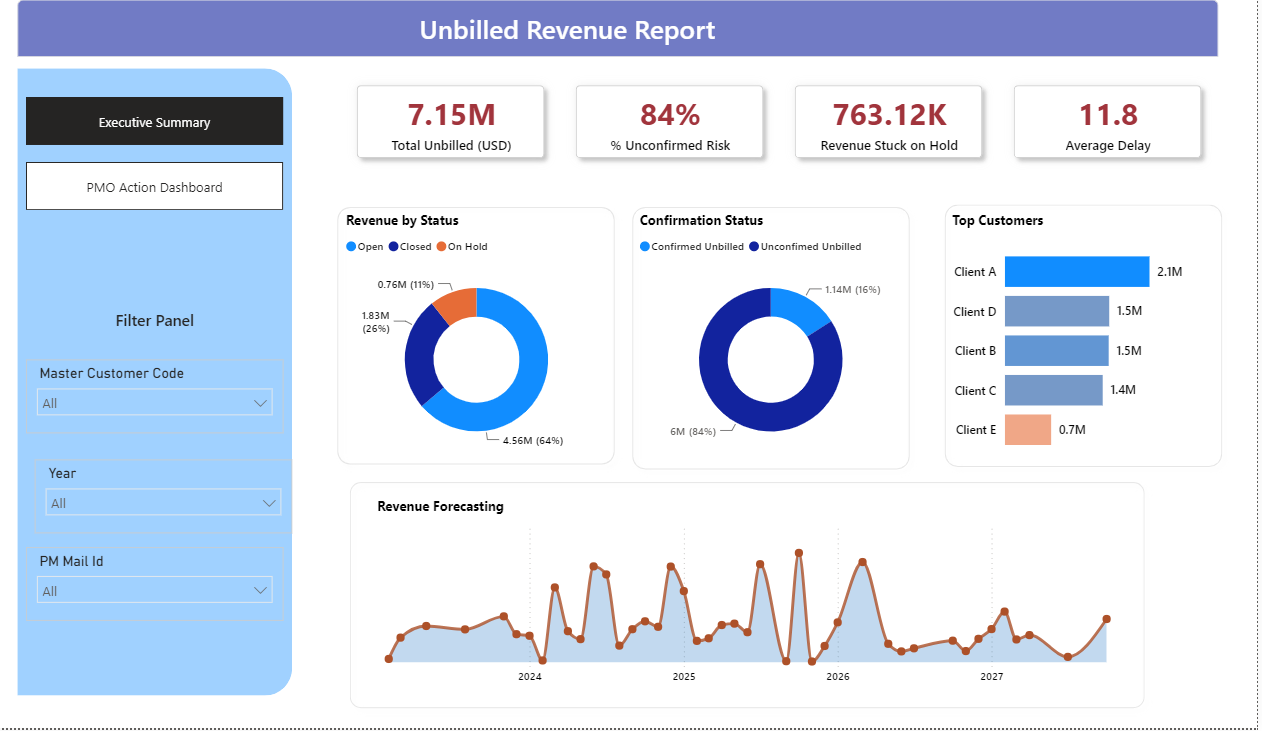

The page's visual inventory and layout, read from the dashboard file:
{"tool":"powerbi","page":{"name":"Executive Summary ","canvas":[1300,750],"ordinal":1},"visuals":[{"type":"cardVisual","fields":{"Data":["All Measures.Total Unbilled (USD)","All Measures.% Unconfirmed Risk","All Measures.Revenue Stuck on Hold","All Measures.Average Delay"]},"box":[354.1,66.2,919.7,132.5],"z":0},{"type":"shape","box":[354.1,210.2,300.6,280.2],"z":1000},{"type":"donutChart","title":"Revenue by Status","fields":{"Y":["All Measures.Total Unbilled (USD)"],"Category":["Unbilled_Revenue_Report.Project Status"]},"box":[366.8,222.9,276.4,258.6],"z":2000},{"type":"shape","box":[654.7,210.2,300.6,285.3],"z":3000},{"type":"donutChart","title":"Confirmation Status","fields":{"Y":["All Measures.Confirmed Unbilled","All Measures.Unconfimed Unbilled"]},"box":[666.2,222.9,277.7,258.6],"z":4000},{"type":"clusteredBarChart","title":"Top Customers","fields":{"Category":["Unbilled_Revenue_Report.Master Customer Code"],"Y":["All Measures.Total Unbilled (USD)"]},"box":[984.6,222.9,276.4,261.1],"z":5000},{"type":"shape","box":[973.2,207.6,300.6,285.3],"z":6000},{"type":"lineChart","title":"Revenue Forecasting","fields":{"Y":["All Measures.Total Unbilled (USD)"],"Category":["Calendar.Date.Variation.Date Hierarchy.Year","Calendar.Date.Variation.Date Hierarchy.Month"]},"box":[398.7,514.6,765.5,200],"z":7000},{"type":"shape","title":"Revenue Forecasting","box":[366.8,490.4,828,248.4],"z":8000},{"type":"shape","box":[36.9,77.7,280.2,639.4],"z":9000},{"type":"shape","box":[36.9,7.6,1224.1,58.6],"z":10000},{"type":"textbox","box":[389.8,14,415.3,45.9],"z":11000},{"type":"slicer","fields":{"Values":["Unbilled_Revenue_Report.Master Customer Code"]},"box":[45.9,374.5,262.4,75.2],"z":11001},{"type":"slicer","fields":{"Values":["Calendar.Year"]},"box":[54.8,476.4,262.4,75.2],"z":11002},{"type":"slicer","fields":{"Values":["Unbilled_Revenue_Report.PM Mail Id"]},"box":[45.9,565.6,262.4,75.2],"z":11003},{"type":"textbox","box":[85.3,318.4,183.4,31.8],"z":11004},{"type":"pageNavigator","box":[45.9,107,262.4,49.7],"z":11005},{"type":"pageNavigator","box":[45.9,173.2,262.4,49.7],"z":11006}]}

Visuals, with their boxes in screenshot pixels (x1, y1, x2, y2), scaled from the page's 1300x750 canvas onto the 1262x731 screenshot:
cardVisual - All Measures.Total Unbilled (USD) x All Measures.% Unconfirmed Risk: select_region(344, 65, 1237, 194)
shape: select_region(344, 205, 636, 478)
"Revenue by Status" donutChart: select_region(356, 217, 624, 469)
shape: select_region(636, 205, 927, 483)
"Confirmation Status" donutChart: select_region(647, 217, 916, 469)
"Top Customers" clusteredBarChart: select_region(956, 217, 1224, 472)
shape: select_region(945, 202, 1237, 480)
"Revenue Forecasting" lineChart: select_region(387, 502, 1130, 696)
"Revenue Forecasting" shape: select_region(356, 478, 1160, 720)
shape: select_region(36, 76, 308, 699)
shape: select_region(36, 7, 1224, 65)
textbox: select_region(378, 14, 782, 58)
slicer - Unbilled_Revenue_Report.Master Customer Code: select_region(45, 365, 299, 438)
slicer - Calendar.Year: select_region(53, 464, 308, 538)
slicer - Unbilled_Revenue_Report.PM Mail Id: select_region(45, 551, 299, 625)
textbox: select_region(83, 310, 261, 341)
pageNavigator: select_region(45, 104, 299, 153)
pageNavigator: select_region(45, 169, 299, 217)
